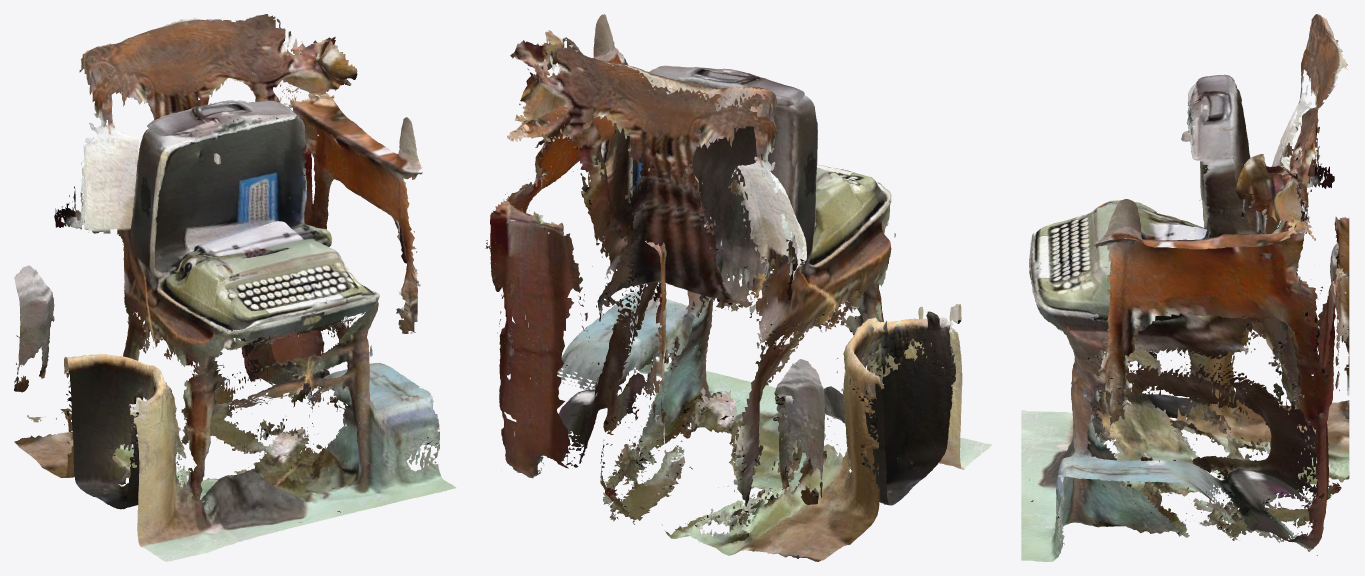
File: antique_typewriter.glb
The picture shows the model from 3 angles, left to right: view 1: azimuth 30°, elevation 25°; view 2: azimuth 150°, elevation 25°; view 3: azimuth 270°, elevation 25°; orthographic projection. The views are drawn at different scales.
Parts seen in each view (by area): view 1: Object_3, Object_2, Object_4; view 2: Object_3, Object_2, Object_4; view 3: Object_3, Object_2, Object_4.
Boxes of the visible parts, bbox=[...] form: Object_3: bbox=[17, 17, 437, 554]; Object_2: bbox=[14, 14, 456, 561]; Object_4: bbox=[20, 16, 442, 550]; Object_3: bbox=[494, 59, 976, 556]; Object_2: bbox=[485, 14, 992, 561]; Object_4: bbox=[486, 29, 961, 550]; Object_3: bbox=[1025, 14, 1348, 555]; Object_2: bbox=[1021, 30, 1349, 561]; Object_4: bbox=[1026, 39, 1348, 559].
Size of the model in its own units: 0.727 by 1.02 by 0.655.
1 material, 1 textured.
